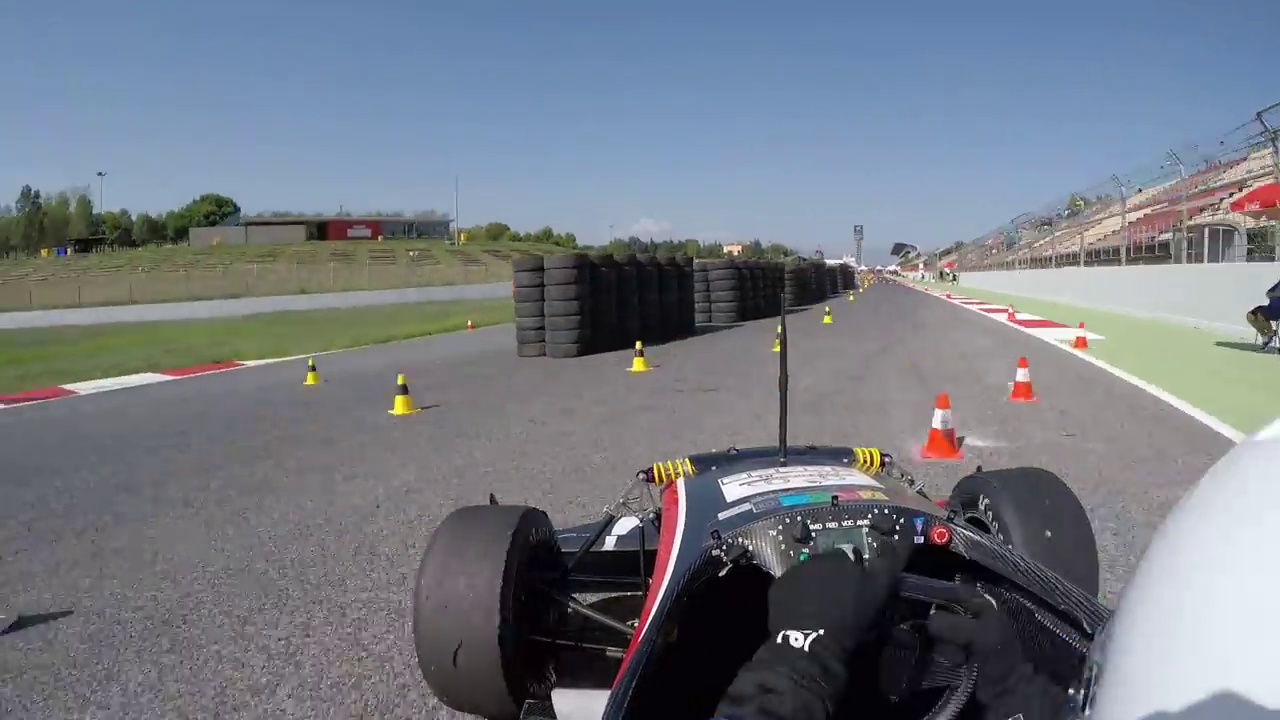Cone: (918, 391, 966, 462), (1007, 357, 1039, 403), (390, 370, 421, 417), (625, 340, 654, 371), (1070, 321, 1097, 349), (303, 356, 322, 389)
